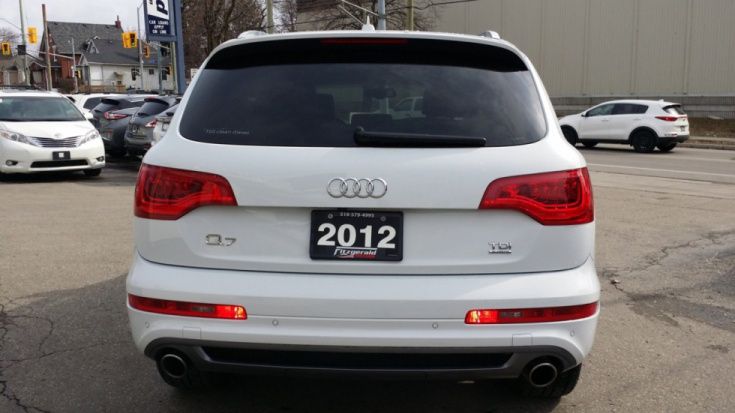audi: (319, 172, 392, 202)
